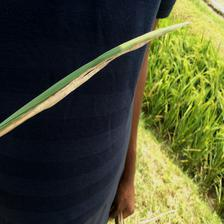2 BacterialBlight: (6, 56, 119, 130)
